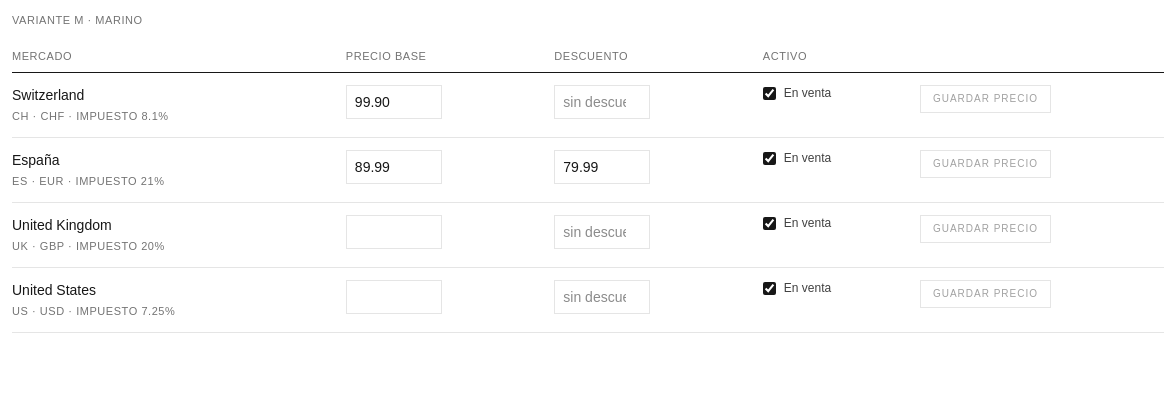
it: AdminSkuPrices › el 400 del servidor se muestra amigable y sin toast de éxito (R7.4)
Expected: the text "España" is shown, [12,152,60,168]
Replace the text in the 2nd number field named "Precio base en España" with "95": (394, 167) [346,150,442,184]
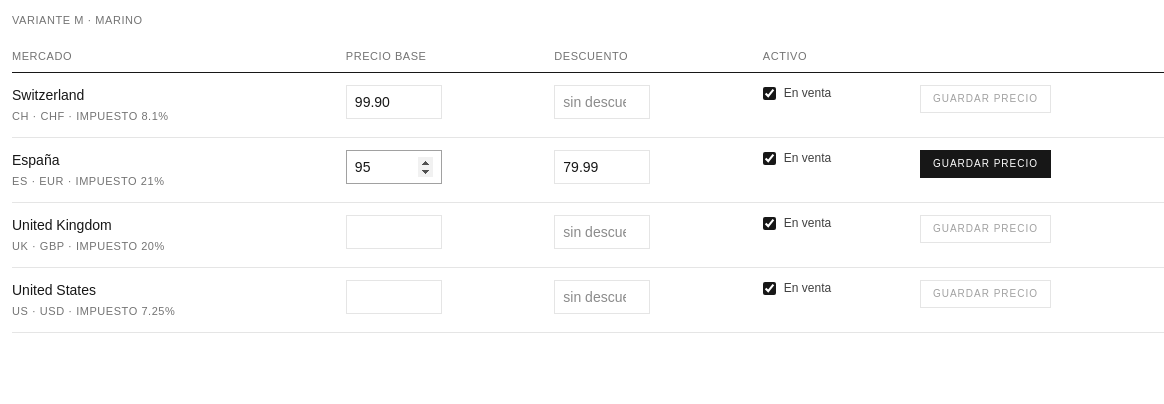
Click the button "Guardar precio" in the row of "España": (985, 164) [920,150,1051,178]
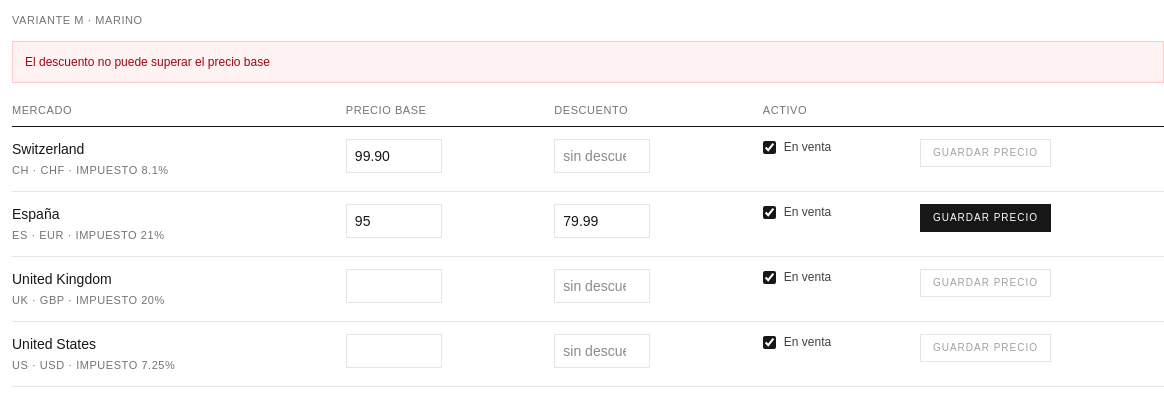
Result: the message reads "El descuento no puede superar el precio base" at [25,54,270,68]
